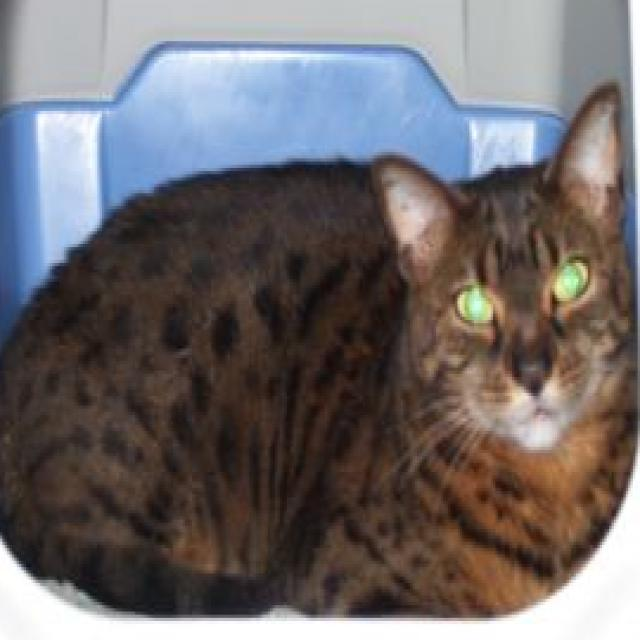Bengal: (0, 73, 640, 630)
